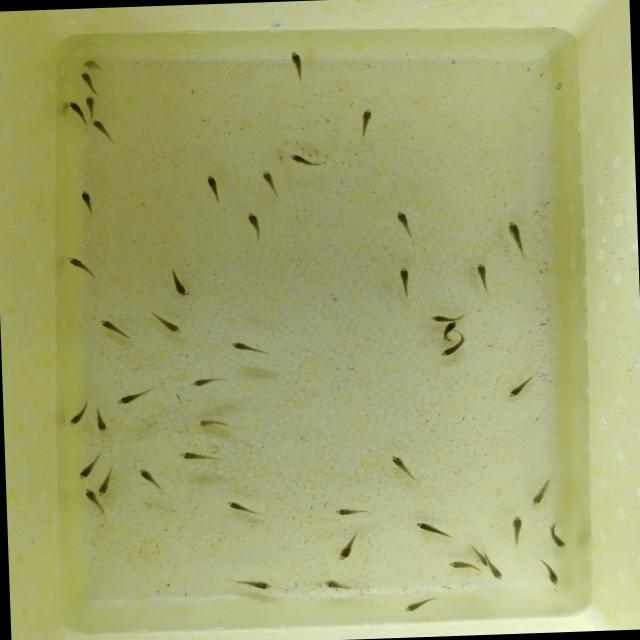fingerling: (174, 446, 225, 472), (352, 102, 383, 137), (165, 266, 194, 303), (387, 448, 419, 481), (504, 370, 538, 400), (527, 472, 554, 508), (392, 264, 420, 298), (200, 162, 222, 205), (316, 573, 361, 593), (64, 396, 90, 430), (225, 578, 288, 592), (150, 314, 188, 337), (74, 454, 103, 484), (69, 255, 100, 282), (114, 384, 155, 404), (469, 260, 493, 294), (399, 593, 439, 613), (281, 153, 328, 170), (94, 317, 132, 338), (243, 208, 265, 243), (228, 336, 266, 356), (506, 214, 524, 256), (134, 464, 164, 489), (288, 43, 306, 84), (412, 520, 452, 538), (394, 208, 418, 238), (440, 336, 471, 359), (96, 462, 113, 502), (545, 524, 571, 549), (222, 496, 258, 514), (542, 554, 562, 586), (78, 189, 98, 221), (332, 504, 372, 519), (90, 406, 110, 436), (336, 536, 359, 562), (262, 166, 278, 202), (91, 118, 113, 144), (195, 417, 232, 432), (190, 375, 228, 389), (510, 510, 524, 547), (486, 558, 506, 582), (77, 70, 96, 95), (450, 556, 476, 574), (66, 100, 84, 124), (82, 54, 105, 72), (429, 310, 470, 320), (438, 322, 462, 338), (84, 484, 97, 512), (471, 542, 486, 566), (84, 94, 94, 118)
